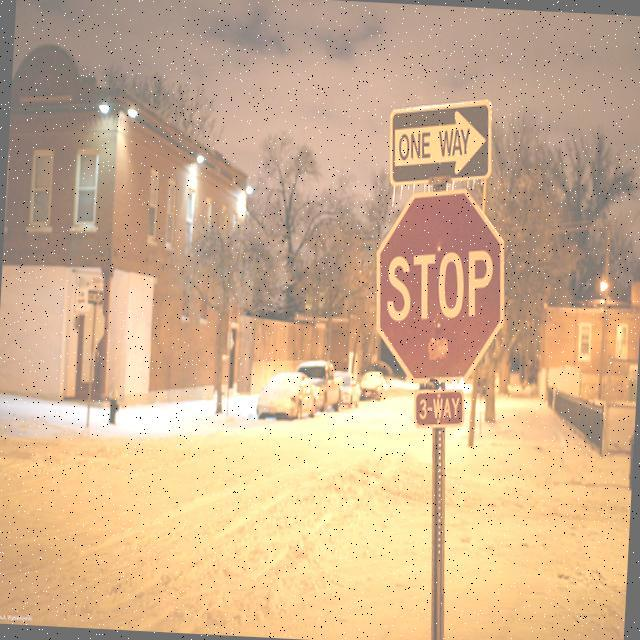fire_hydrant: (106, 386, 122, 424)
